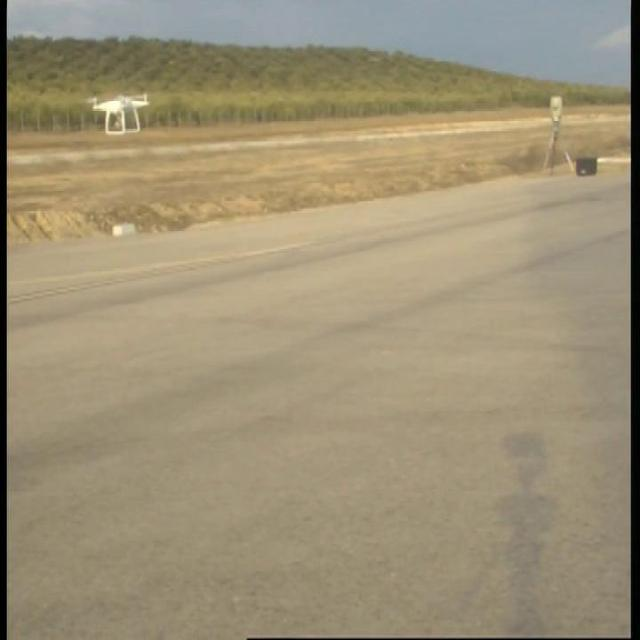drone: (79, 91, 157, 140)
